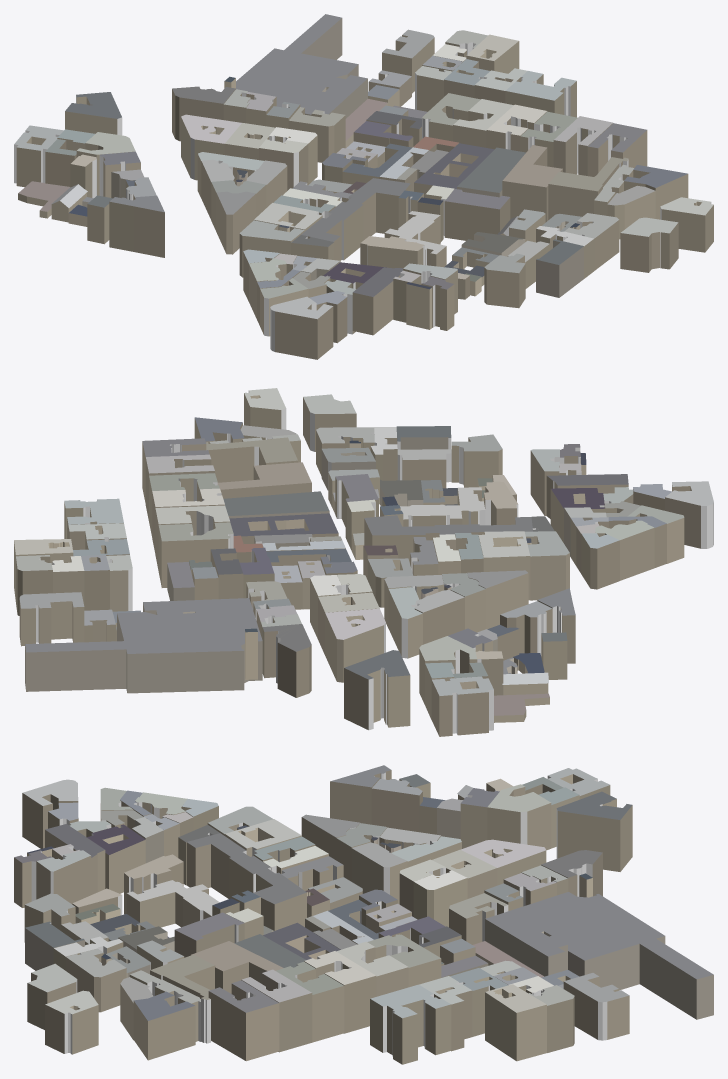
3 views of the same model, one above another, from view 1: azimuth 30°, elevation 25°; view 2: azimuth 150°, elevation 25°; view 3: azimuth 270°, elevation 25° (orthographic). The views are drawn at different scales.
Visible parts, largest first — view 1: tuile; view 2: tuile; view 3: tuile.
Part boxes in pixels (x1=…): tuile: x1=14, y1=14, x2=713, y2=359; tuile: x1=14, y1=388, x2=713, y2=736; tuile: x1=14, y1=765, x2=713, y2=1064.
Bounding box in the file's own units: 275 × 28.56 × 308.
